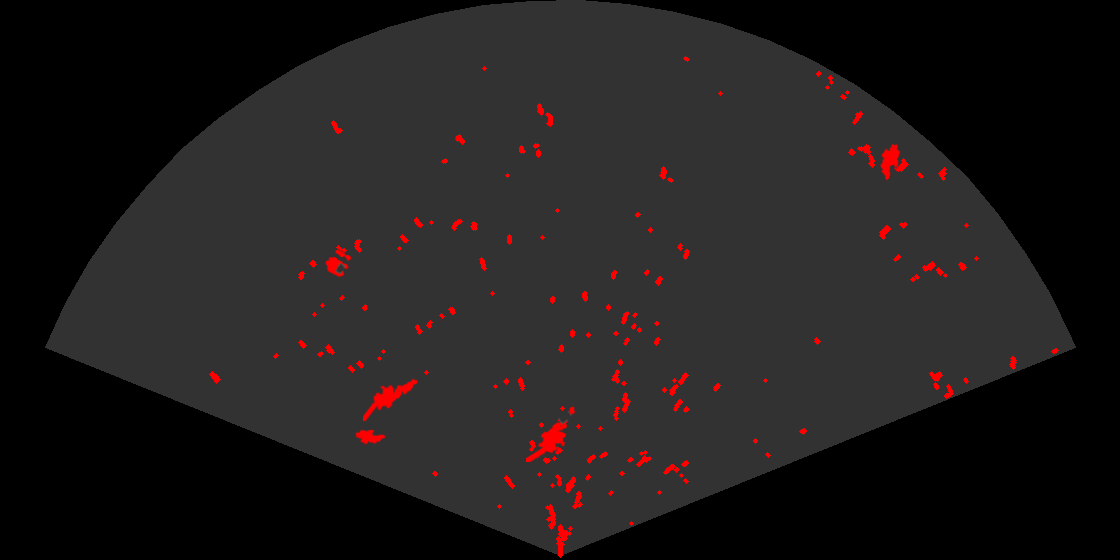AUV: (879, 142, 902, 182), (354, 428, 387, 446)
ball: (324, 248, 353, 279)
frogman: (526, 405, 577, 462), (363, 377, 420, 421)
